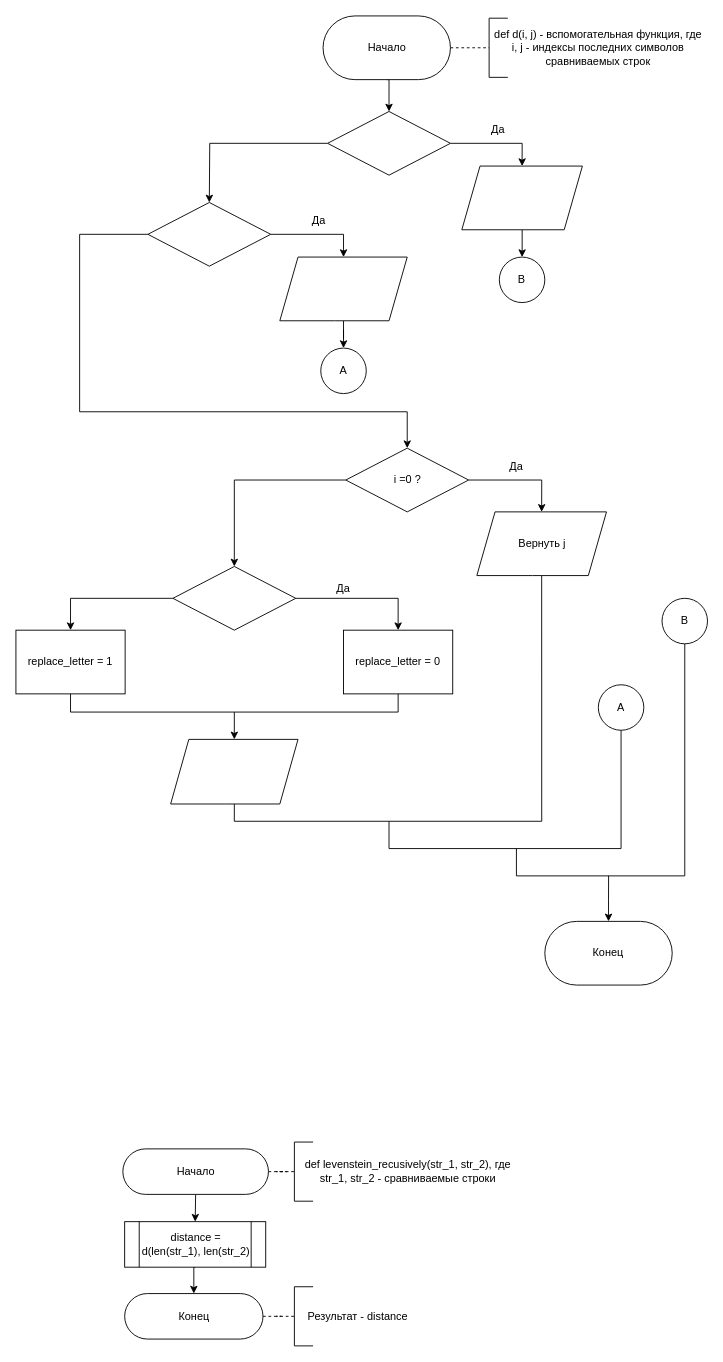
Some shapes in this 723 by 1362 pixel diagram are drawn without their labels. The shapes that lost their labels are listed below. From the top down, each one's box as (x1, y1, x2, y2) in pixels, then its label:
(327, 111, 450, 175): i = 0 и j =0 ?
(461, 165, 582, 230): Вернуть 0
(147, 202, 271, 266): j =0 ?
(279, 256, 407, 321): Вернуть i
(172, 566, 296, 630): str_1[i] = str_2[j] ?
(170, 738, 298, 804): Вернуть min(d(i, j - 1) + 1, d(i - 1, j) + 1, d(i - 1, j - 1) + replace_letter)
